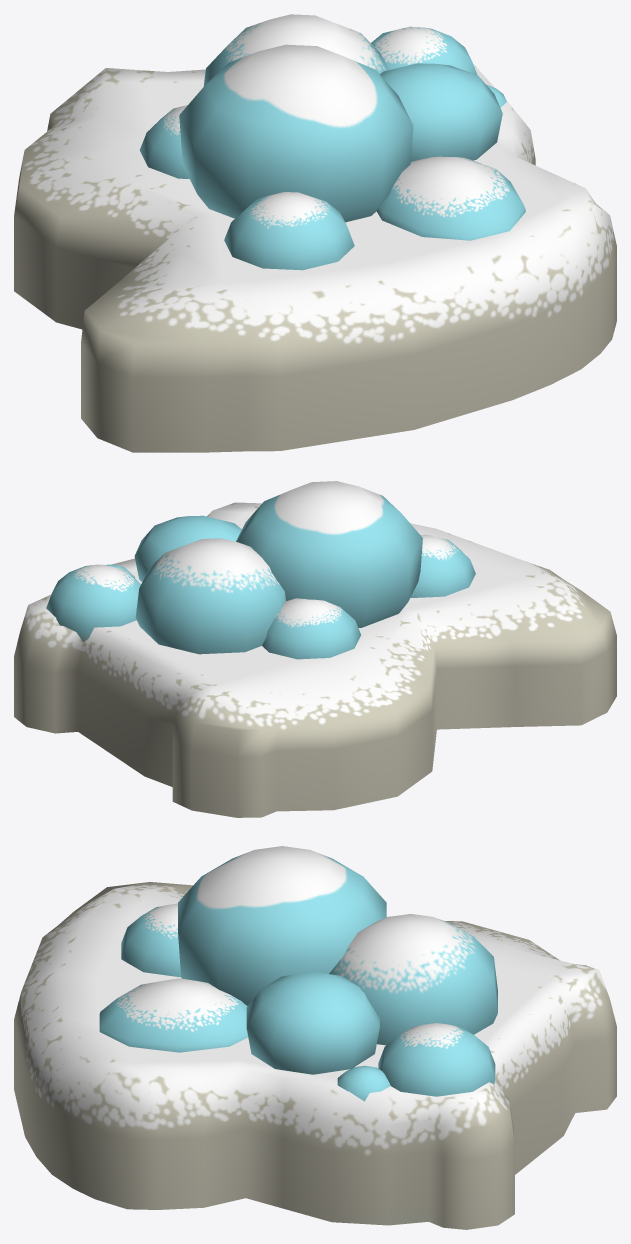
File: Ile Nord.fbx
The picture shows the model from 3 angles, top to bottom: view 1: azimuth 30°, elevation 25°; view 2: azimuth 150°, elevation 25°; view 3: azimuth 270°, elevation 25°; orthographic projection. The views are drawn at different scales.
Visible parts, largest first — view 1: Ile_Nord; view 2: Ile_Nord; view 3: Ile_Nord.
Boxes of the visible parts, x1,y1,x2,y2 form: Ile_Nord: (14,14,616,452); Ile_Nord: (14,481,616,817); Ile_Nord: (14,846,616,1229).
Bounding box in the file's own units: 116 × 51.84 × 117.
1 material, 1 textured.
